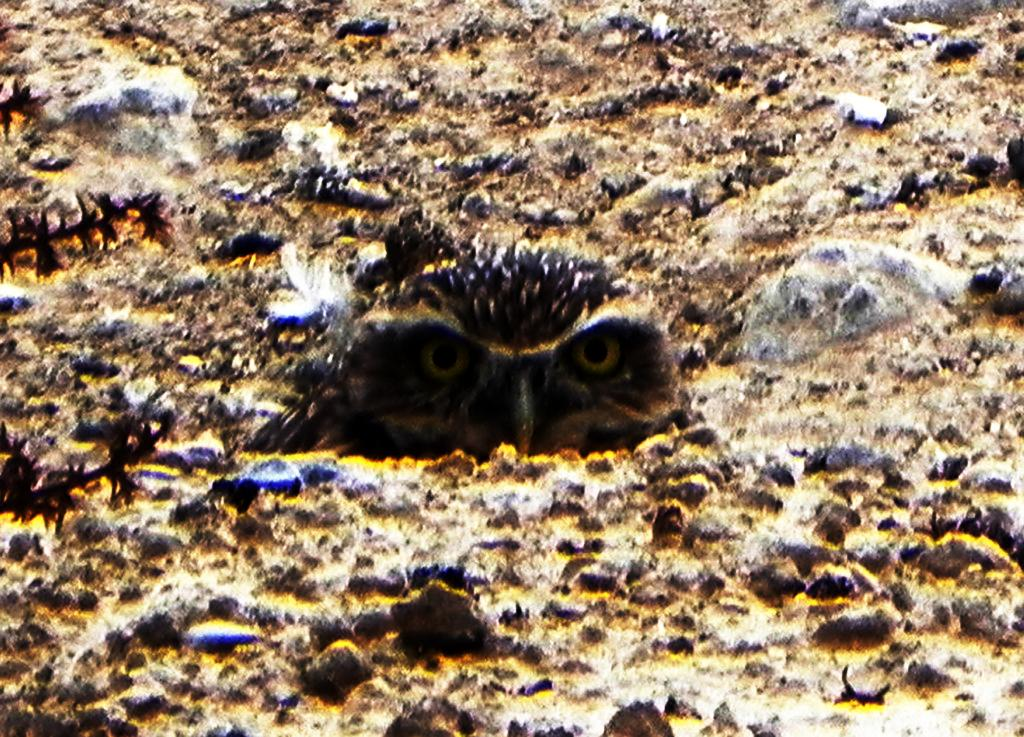Owl: (254, 241, 702, 472)
